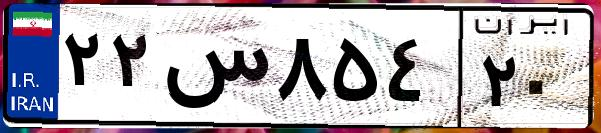0: (525, 38, 570, 115)
2: (57, 26, 110, 100), (475, 38, 525, 113), (110, 28, 158, 98)
4: (385, 28, 445, 110)
5: (330, 28, 385, 110)
8: (270, 28, 330, 110)
س: (158, 20, 270, 120)
